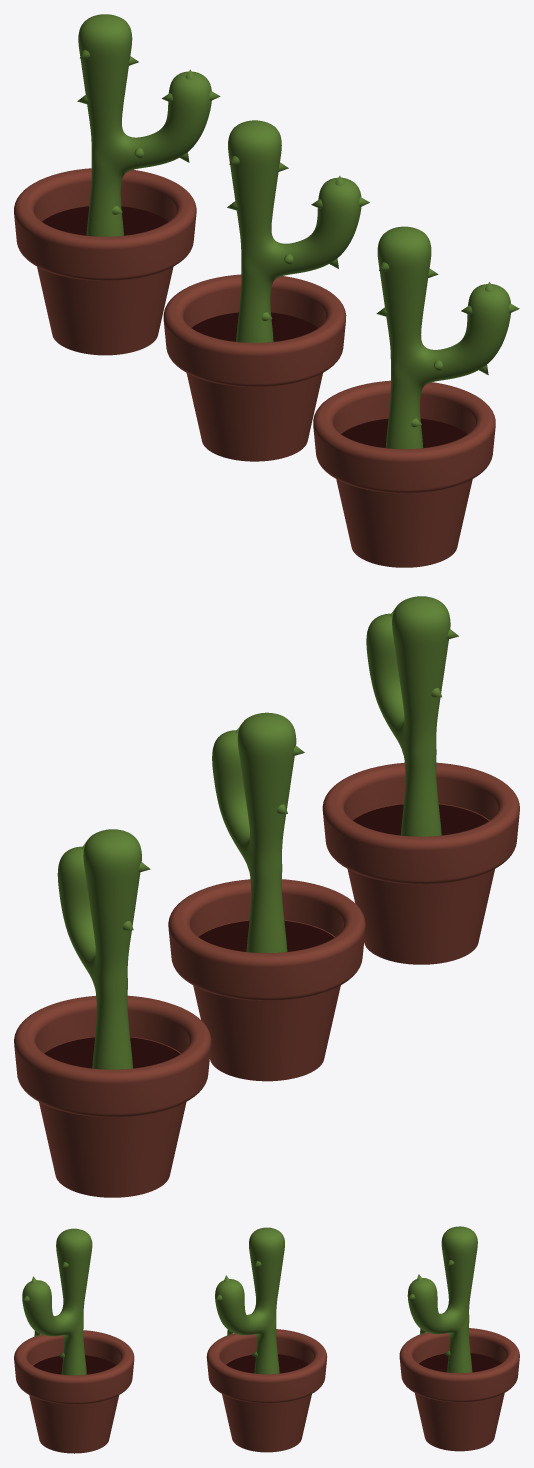
Rendered from Room3-Flower7.glb.
3 views of the same model, one above another, from view 1: azimuth 30°, elevation 25°; view 2: azimuth 150°, elevation 25°; view 3: azimuth 270°, elevation 25° (orthographic). The views are drawn at different scales.
Visible parts, largest first — view 1: Dirt4; view 2: Dirt4; view 3: Dirt4.
Part boxes in pixels (bbox=[...]): Dirt4: bbox=[14, 14, 519, 567]; Dirt4: bbox=[14, 596, 519, 1197]; Dirt4: bbox=[14, 1226, 519, 1453].
Bounding box in the file's own units: 1.57 × 2.87 × 6.34.
